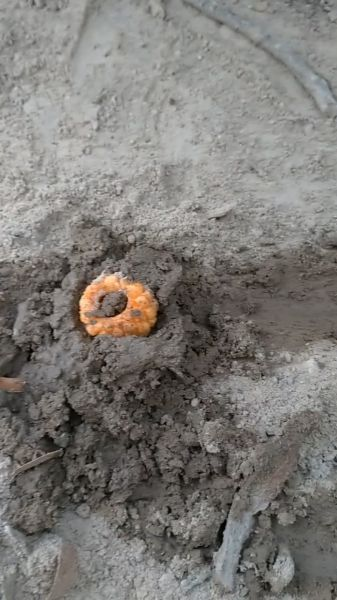eggs: (73, 268, 164, 344)
